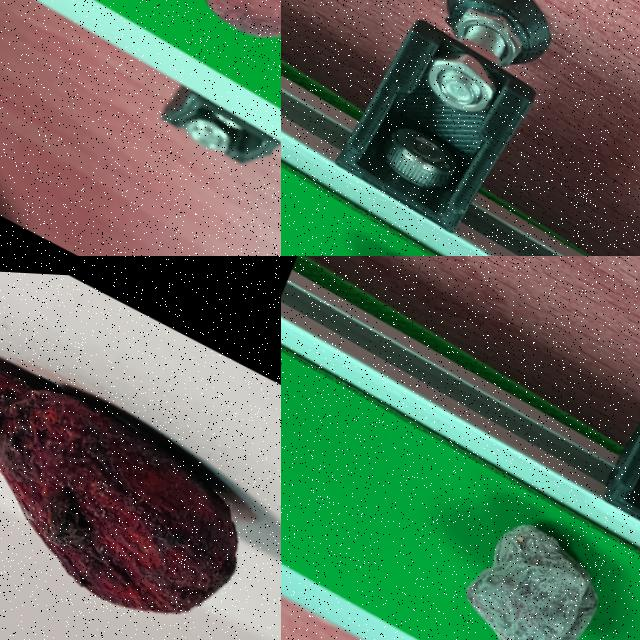Agglomerated_cocoabeans: (0, 285, 280, 639), (333, 406, 639, 639), (281, 176, 627, 255)
Fine_cocoabeans: (70, 0, 280, 122)
